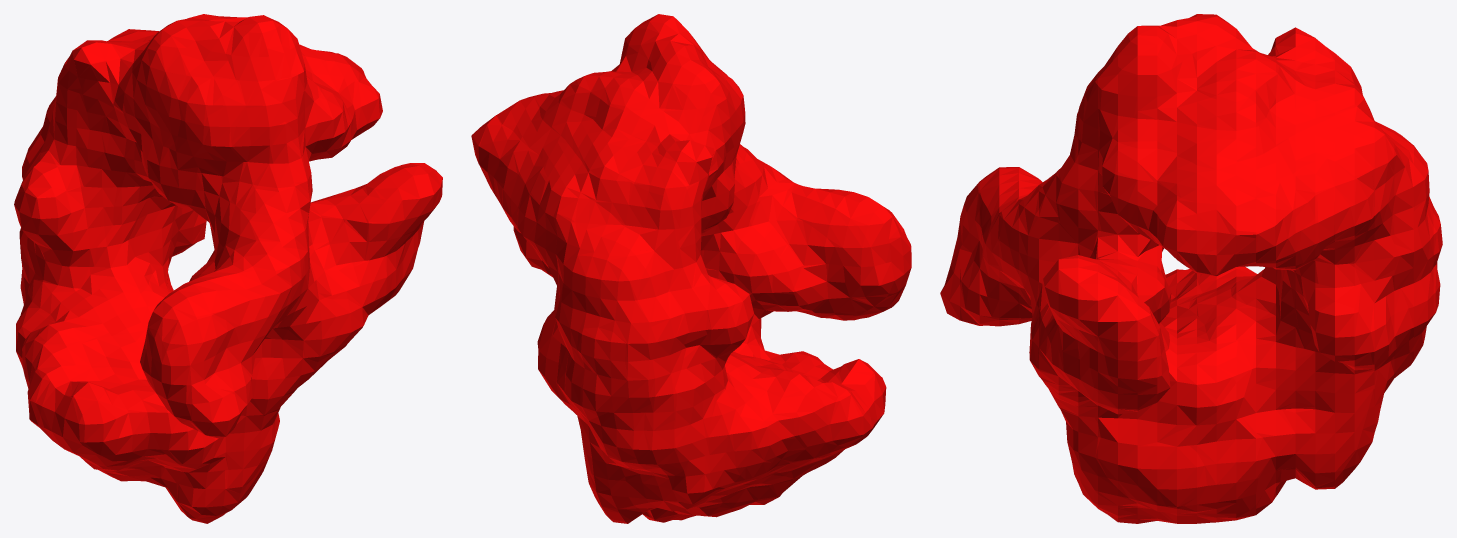
File: rdgC_coarse.dae
3 views of the same model, side by side, from view 1: azimuth 30°, elevation 25°; view 2: azimuth 150°, elevation 25°; view 3: azimuth 270°, elevation 25° (orthographic). The views are drawn at different scales.
Parts seen in each view (by area): view 1: rdgC; view 2: rdgC; view 3: rdgC.
Part boxes in pixels (box(x1,y1,x2,y2)): rdgC: box(14, 14, 442, 523); rdgC: box(471, 14, 911, 523); rdgC: box(940, 14, 1442, 523).
Size of the model in its own units: 74.76 by 92.17 by 79.78.
